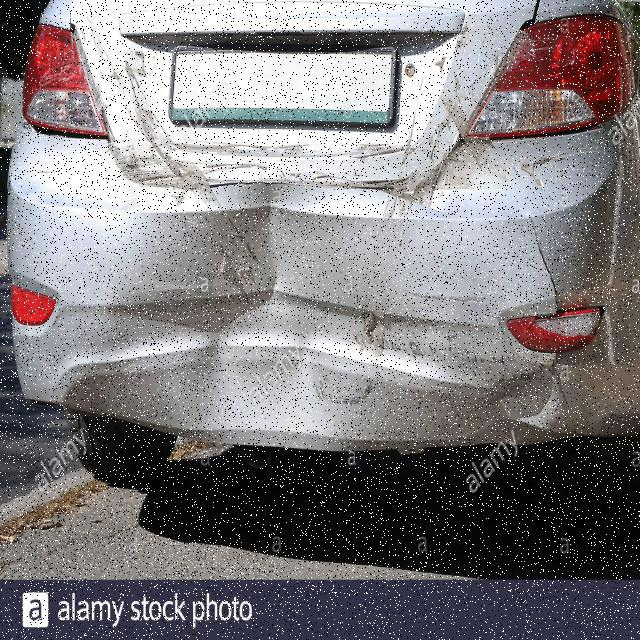rear-bumper-dent: (6, 176, 640, 452)
